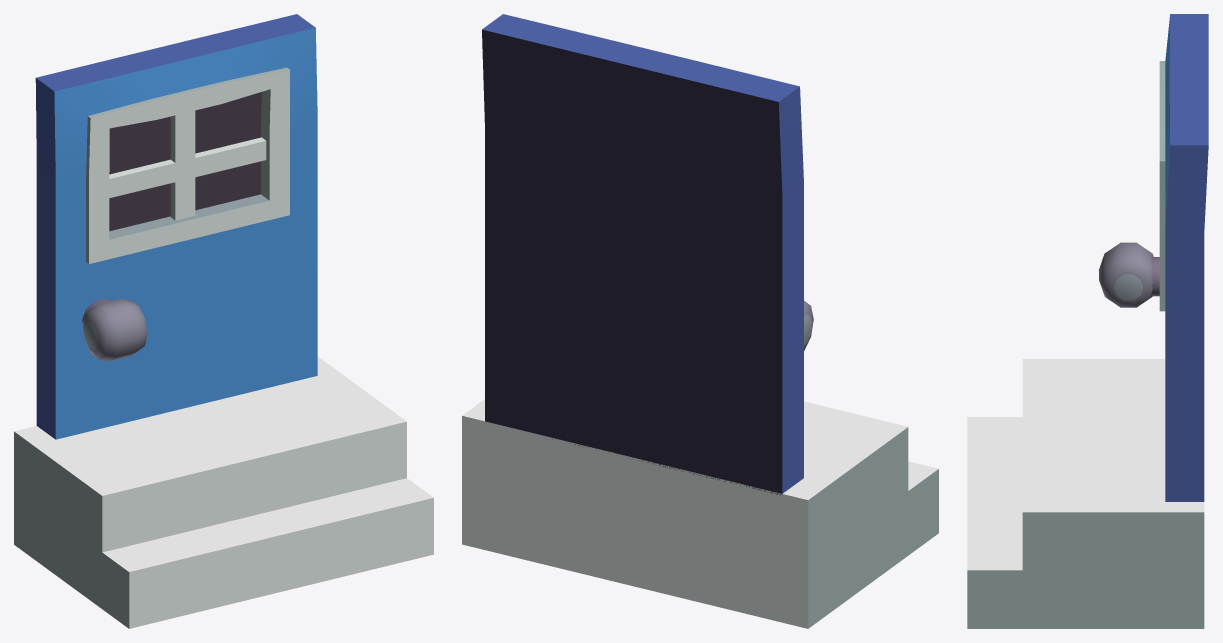
Rendered from Door02_Blue_White.glb.
The picture shows the model from 3 angles, left to right: view 1: azimuth 30°, elevation 25°; view 2: azimuth 150°, elevation 25°; view 3: azimuth 270°, elevation 25°; orthographic projection. The views are drawn at different scales.
Parts seen in each view (by area): view 1: Door02_Blue_White; view 2: Door02_Blue_White; view 3: Door02_Blue_White.
Part boxes in pixels (x1,y1,x2,y2): Door02_Blue_White: [14, 14, 433, 628]; Door02_Blue_White: [462, 14, 938, 628]; Door02_Blue_White: [967, 14, 1208, 628].
Bounding box in the file's own units: 0.9795 × 1.41 × 0.6527.
1 material, 1 textured.
